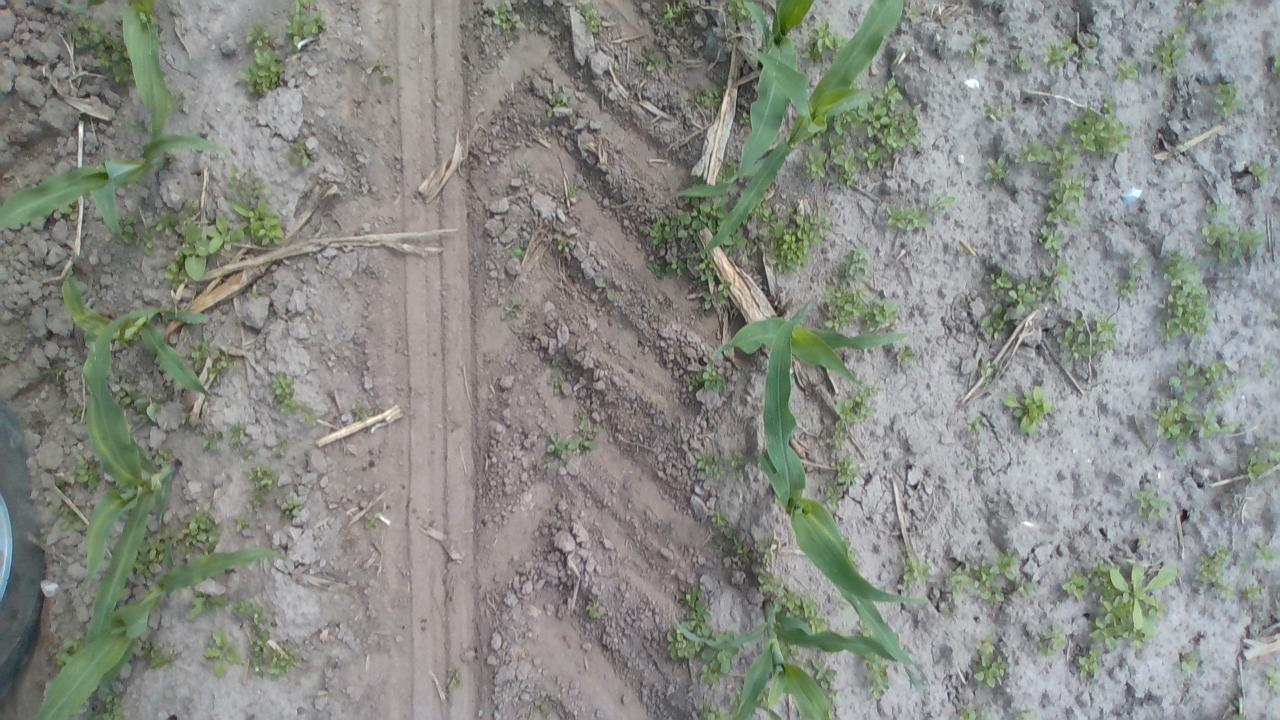Maize: (752, 290, 923, 672), (699, 0, 908, 268), (33, 554, 291, 720), (74, 286, 175, 677), (680, 593, 931, 720), (666, 0, 816, 203), (6, 136, 234, 248), (57, 258, 226, 408), (714, 298, 904, 382), (120, 0, 172, 141), (50, 0, 108, 14)
Weeds: (858, 76, 922, 171), (980, 265, 1055, 332), (763, 206, 832, 276), (1157, 253, 1211, 340), (1104, 560, 1176, 622), (1070, 94, 1132, 154), (248, 607, 298, 678), (828, 284, 896, 326), (1058, 313, 1117, 360), (1201, 216, 1262, 260), (240, 37, 284, 94), (1002, 386, 1054, 434), (544, 416, 598, 457), (1149, 25, 1189, 76), (750, 566, 796, 610), (1196, 549, 1234, 600), (241, 200, 284, 244), (284, 3, 324, 50), (204, 628, 243, 676), (682, 585, 716, 639), (972, 636, 1006, 686), (180, 232, 213, 282), (829, 138, 860, 191), (226, 161, 269, 199), (649, 209, 695, 244), (1116, 255, 1148, 304), (42, 500, 86, 534), (837, 386, 878, 422), (972, 556, 1004, 602), (1186, 412, 1240, 439), (98, 42, 131, 86), (1151, 400, 1189, 438), (206, 214, 246, 250), (186, 510, 222, 548), (184, 590, 228, 620), (190, 336, 224, 374), (1134, 484, 1169, 520), (688, 199, 724, 234), (885, 204, 929, 232), (792, 594, 828, 628), (136, 538, 168, 576), (248, 464, 276, 507), (1213, 82, 1247, 117), (1170, 356, 1197, 400), (72, 20, 109, 52), (1049, 174, 1086, 206), (650, 254, 685, 286), (1090, 616, 1124, 648), (694, 360, 726, 394), (138, 640, 174, 670), (1011, 136, 1047, 166), (84, 695, 125, 720), (1042, 38, 1076, 68), (272, 373, 298, 412), (698, 648, 726, 684), (1036, 626, 1068, 657), (903, 554, 931, 588), (840, 246, 870, 277), (1124, 622, 1157, 650), (1036, 226, 1066, 255), (42, 357, 68, 390), (1046, 256, 1072, 288), (1062, 570, 1088, 601), (1042, 206, 1082, 226), (546, 90, 573, 119), (810, 658, 836, 688), (1240, 456, 1272, 480), (285, 141, 313, 168), (866, 656, 887, 692), (826, 423, 852, 452), (950, 702, 991, 720), (1200, 360, 1228, 386), (702, 282, 728, 310), (228, 420, 250, 452), (833, 112, 860, 138), (1254, 434, 1280, 461), (74, 459, 98, 488), (946, 568, 970, 597), (1050, 146, 1076, 172), (491, 6, 518, 31), (592, 276, 617, 303), (965, 34, 989, 62), (721, 528, 746, 554), (754, 537, 778, 564), (136, 399, 160, 426), (997, 550, 1020, 578), (1076, 647, 1098, 676), (1208, 384, 1238, 405), (977, 357, 998, 387), (62, 397, 85, 424), (986, 156, 1008, 184), (658, 1, 682, 26), (118, 387, 142, 412), (806, 149, 828, 176), (121, 212, 142, 240), (501, 296, 525, 320), (580, 5, 602, 31), (696, 254, 718, 280), (834, 458, 856, 484), (179, 198, 201, 224), (694, 453, 721, 474), (1263, 664, 1280, 697), (1188, 0, 1216, 20), (931, 192, 955, 215), (56, 640, 78, 665), (296, 402, 318, 427), (272, 438, 294, 463), (234, 601, 260, 622), (443, 667, 463, 694), (982, 100, 1006, 122), (155, 208, 176, 233), (138, 226, 156, 255), (162, 262, 182, 288), (727, 0, 750, 22), (824, 480, 846, 503), (698, 87, 719, 111), (507, 237, 528, 261), (1256, 354, 1276, 379), (1088, 557, 1104, 588), (150, 444, 172, 466), (1179, 648, 1200, 671), (1116, 59, 1138, 80), (1256, 543, 1276, 566), (642, 49, 662, 72), (965, 413, 986, 434), (282, 496, 304, 516), (725, 236, 749, 254), (1009, 50, 1030, 70), (378, 65, 398, 86), (1170, 438, 1187, 462), (1242, 580, 1262, 600), (352, 401, 371, 422), (586, 598, 604, 620), (548, 373, 564, 397), (728, 451, 748, 470), (710, 510, 729, 530), (514, 157, 533, 177), (204, 433, 222, 454), (898, 344, 916, 365), (1267, 47, 1280, 75), (556, 232, 571, 256), (699, 701, 720, 718), (361, 512, 379, 531), (1018, 578, 1036, 596), (1250, 162, 1266, 181), (179, 406, 193, 427), (534, 697, 550, 715), (235, 516, 250, 534), (242, 446, 262, 459), (1076, 53, 1090, 71), (1080, 34, 1096, 48), (1214, 0, 1234, 10), (546, 357, 566, 367), (52, 474, 67, 487), (966, 452, 976, 471), (566, 185, 578, 200), (1136, 532, 1148, 546), (489, 184, 497, 199), (1232, 713, 1246, 720)
